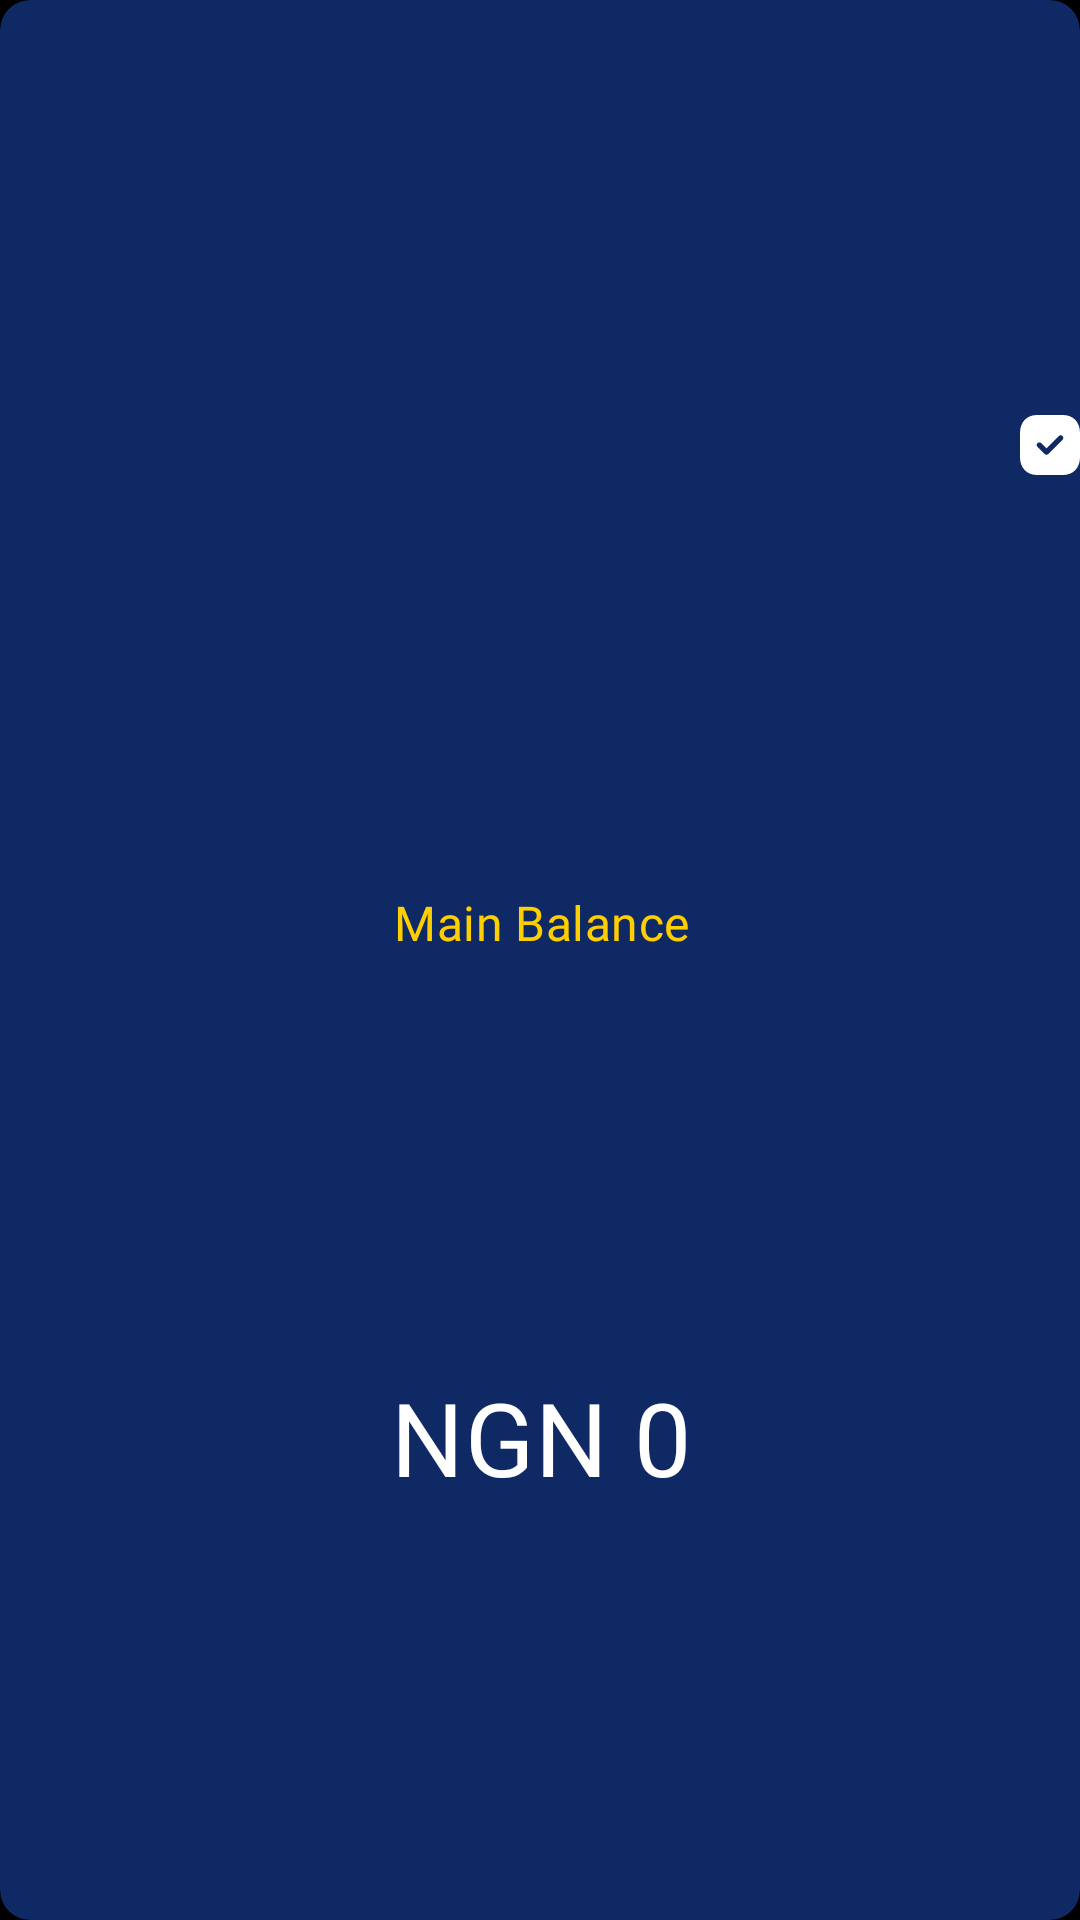

Screen size 1080*1920. Icon name, then its center in pixels as (x,y):
sucess: (1050,445)
